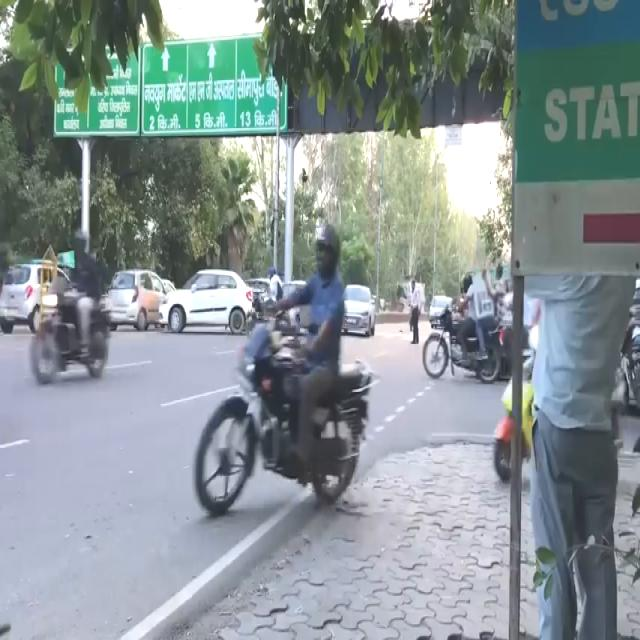MOTORCYCLE: (197, 306, 378, 502), (29, 276, 110, 386), (422, 292, 503, 384)
